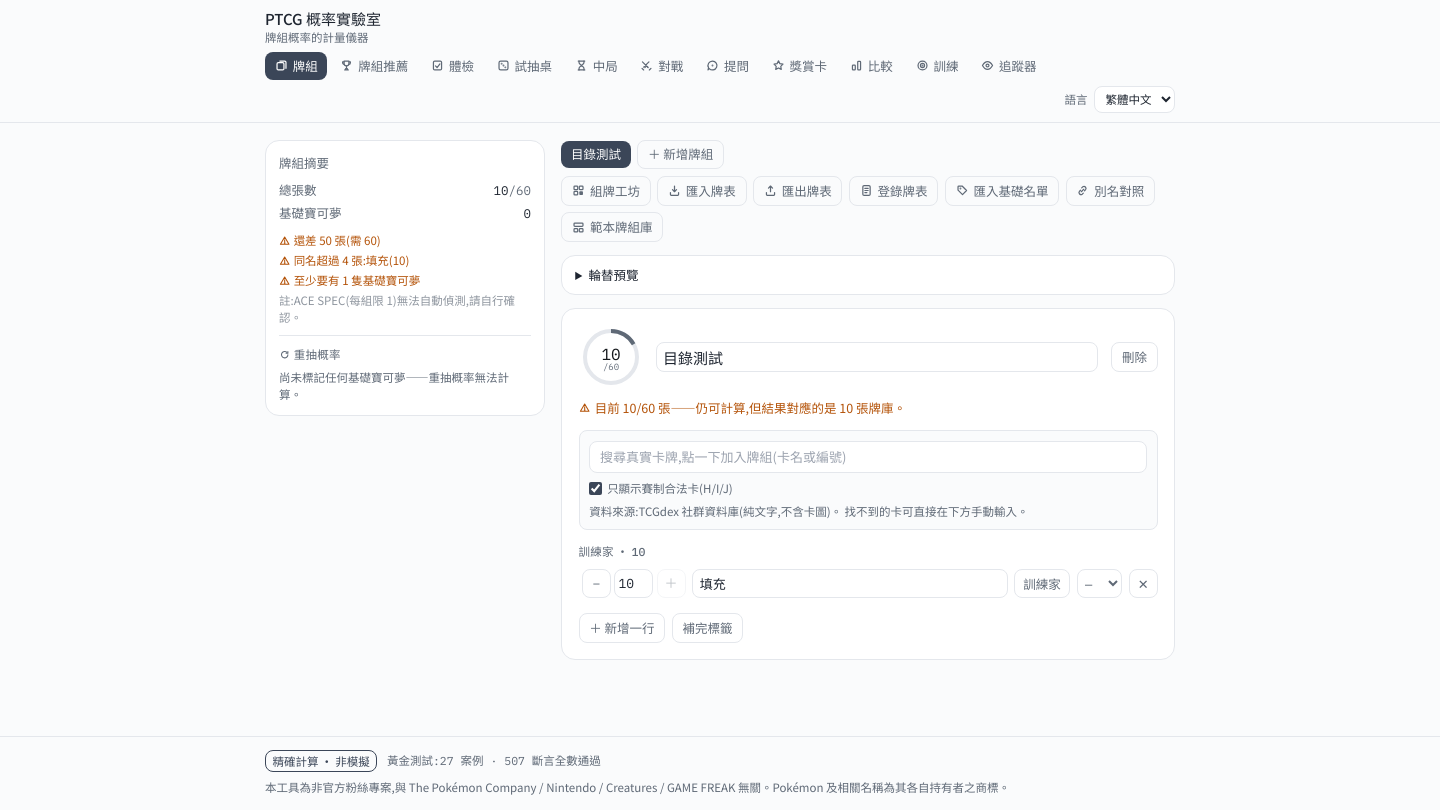
Test: CardPicker › defaults to standard-legal only — hides the out-of-format print
The image size is (1440, 810).
Type "綠毛蟲" into the search field named "卡牌目錄搜尋" at (868, 457), box top-left (589, 441), bottom-right (1147, 473)
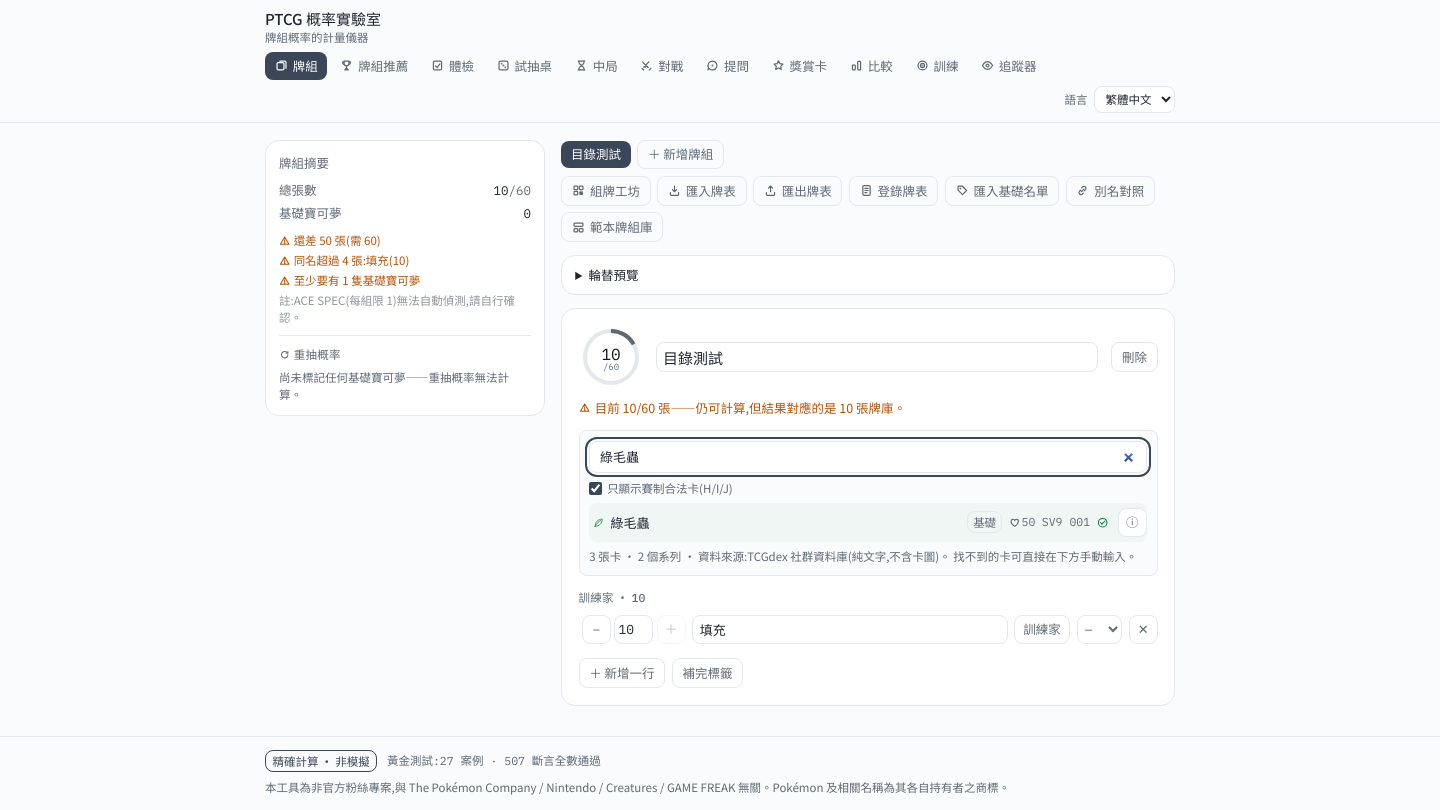
Expected: the button with aria-label "加入 綠毛蟲(SV9-001)" is shown, top-left (589, 508), bottom-right (1111, 536)
